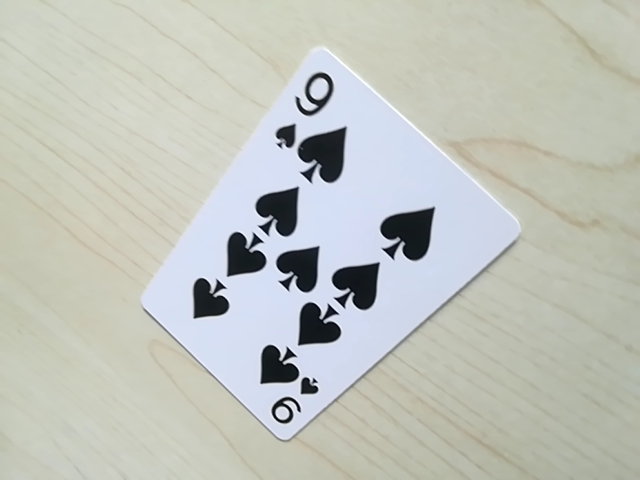ht 9: (268, 58, 344, 163), (258, 375, 323, 435)
